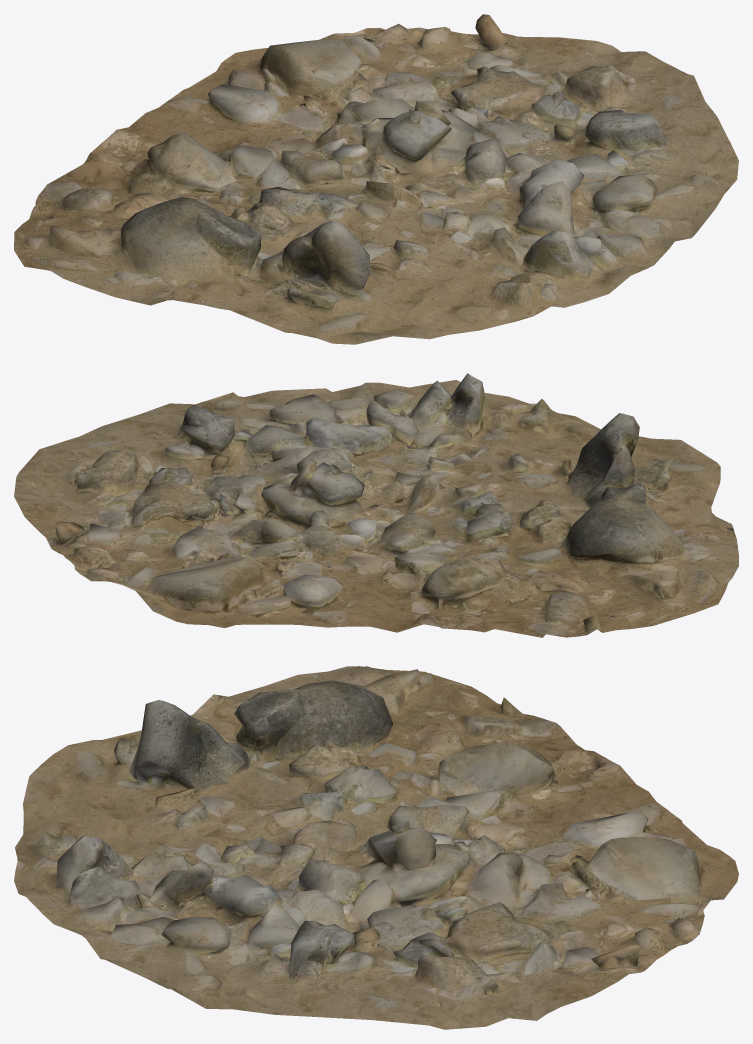
File: sand_rocks.glb
The picture shows the model from 3 angles, top to bottom: view 1: azimuth 30°, elevation 25°; view 2: azimuth 150°, elevation 25°; view 3: azimuth 270°, elevation 25°; orthographic projection. The views are drawn at different scales.
Parts seen in each view (by area): view 1: sand_rocks_small_01_LOD3; view 2: sand_rocks_small_01_LOD3; view 3: sand_rocks_small_01_LOD3.
Part boxes in pixels (box(x1,y1,x2,y2)): sand_rocks_small_01_LOD3: box(14, 14, 738, 344); sand_rocks_small_01_LOD3: box(14, 373, 738, 637); sand_rocks_small_01_LOD3: box(14, 666, 738, 1029).
Bounding box in the file's own units: 4.63 × 0.535 × 3.89.
Materials: 1 (1 with a texture image).
